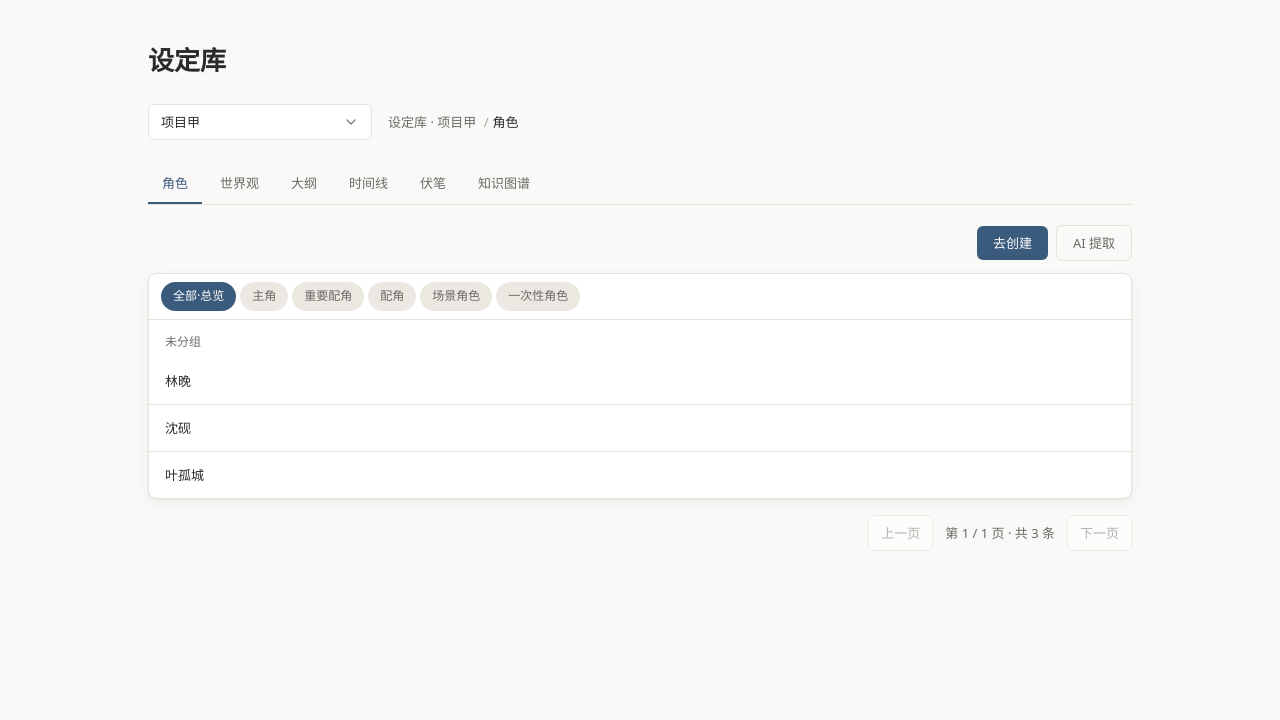
Scenario: #650 角色关系 GUI（T1 关系区契约，角色详情面板内） › 添加关系：点 character-rel-add → 表单字段齐全 → 选对方角色+填类型/描述 → POST body 断言 → 列表出现新行
The image size is (1280, 720).
expect the element with test id "library-list" is shown: met, box [148, 273, 1132, 499]
Click the button "林晚". click: click(178, 381)
box: [165, 370, 1047, 392]
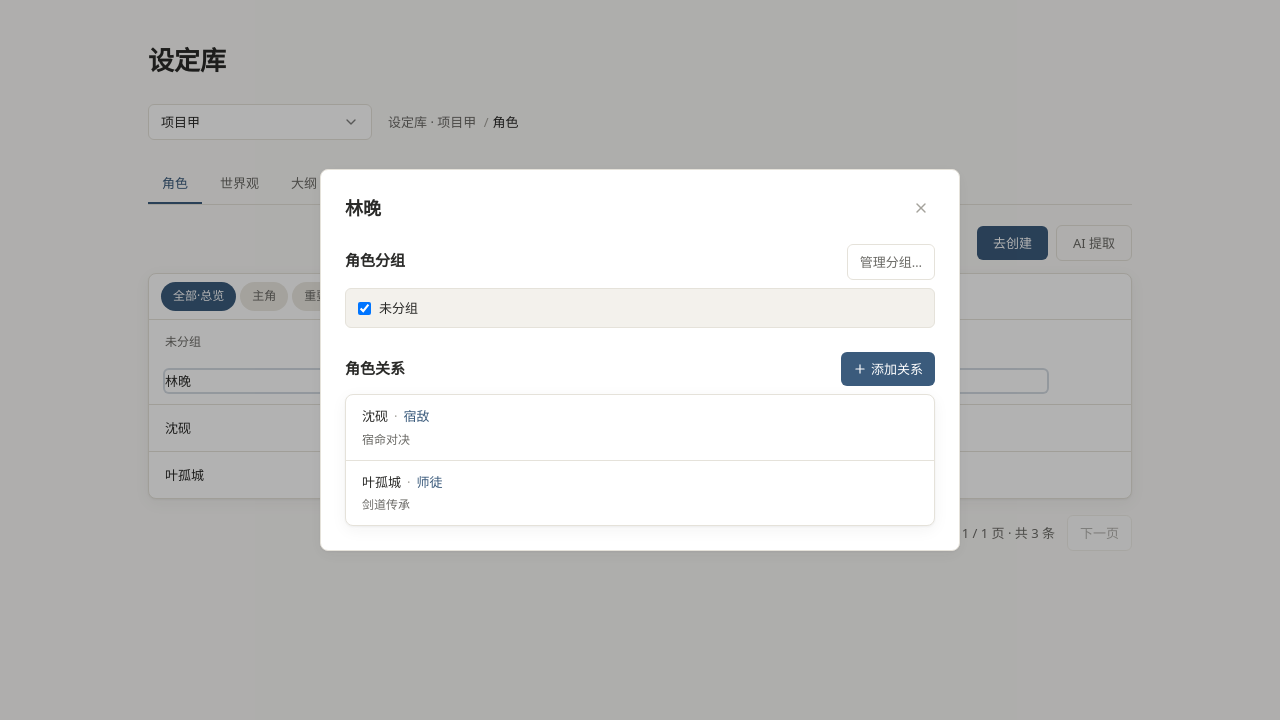
Click the button with test id "character-rel-add". click: click(888, 369)
box: [841, 352, 935, 386]
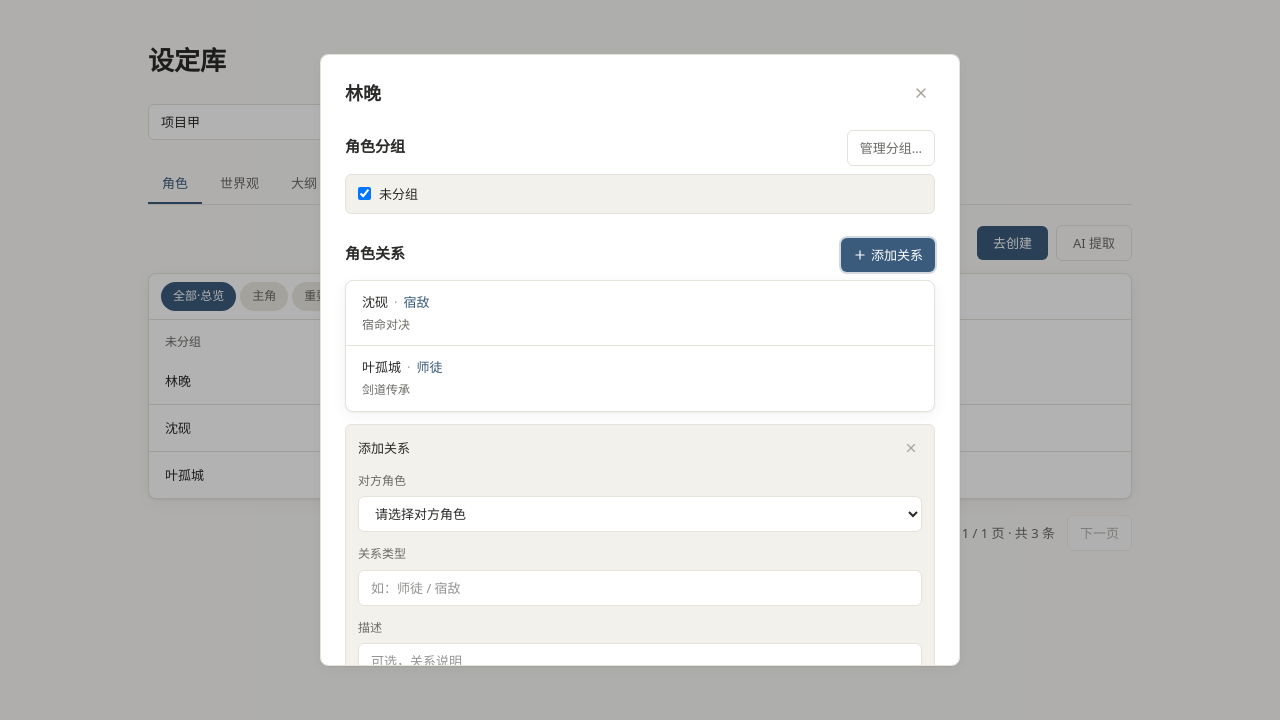
expect the dropdown with test id "character-rel-form-to" is shown: met
expect the field with test id "character-rel-form-type" is shown: met, box [358, 570, 922, 606]
expect the field with test id "character-rel-form-desc" is shown: met, box [358, 643, 922, 666]
Select "沈砚" in the dropdown with test id "character-rel-form-to". click: (640, 514)
box: [358, 496, 922, 532]
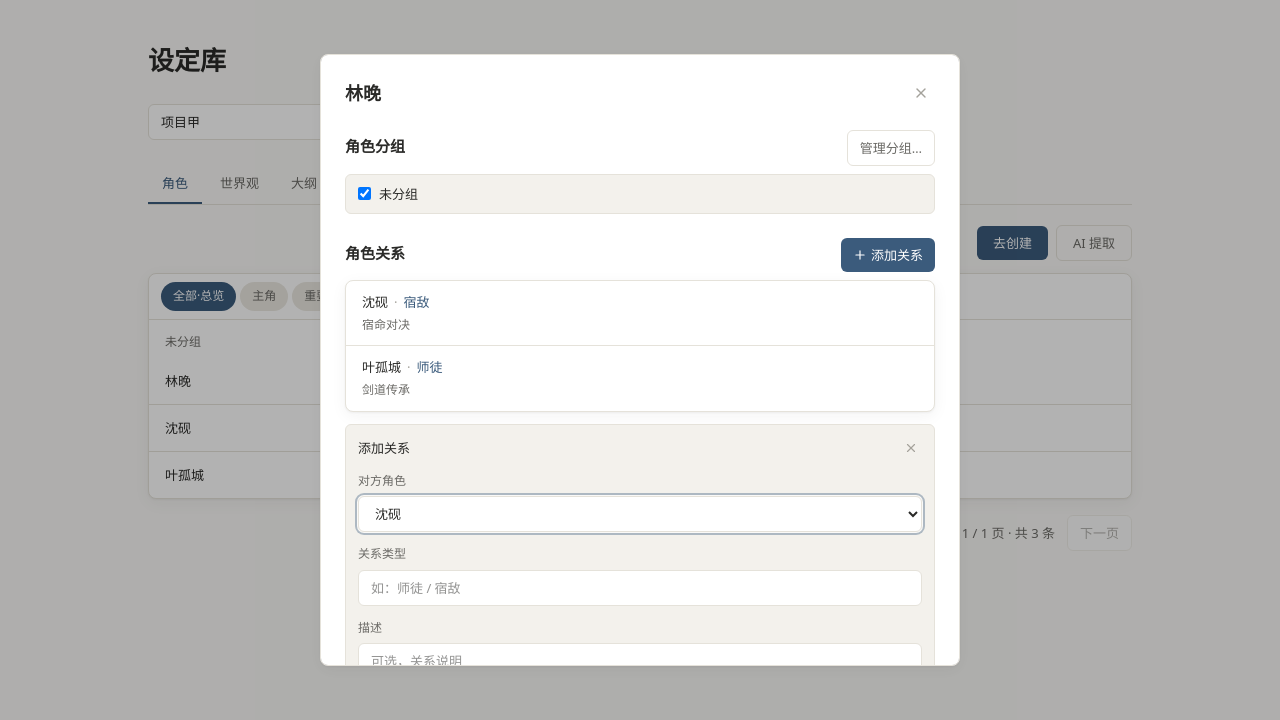
Type "挚友" into the field with test id "character-rel-form-type". click: (640, 588)
box: [358, 570, 922, 606]
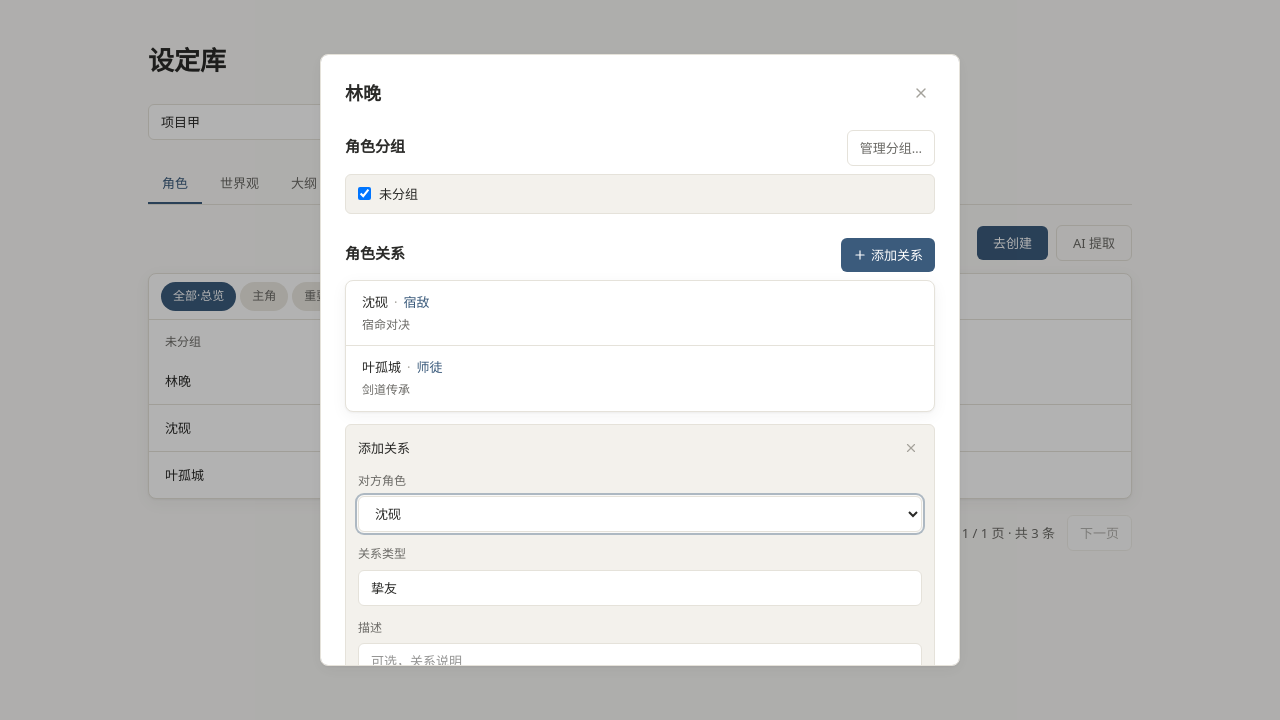
Type "患难与共" into the field with test id "character-rel-form-desc". click: (640, 661)
box: [358, 643, 922, 679]
(page scrolled)
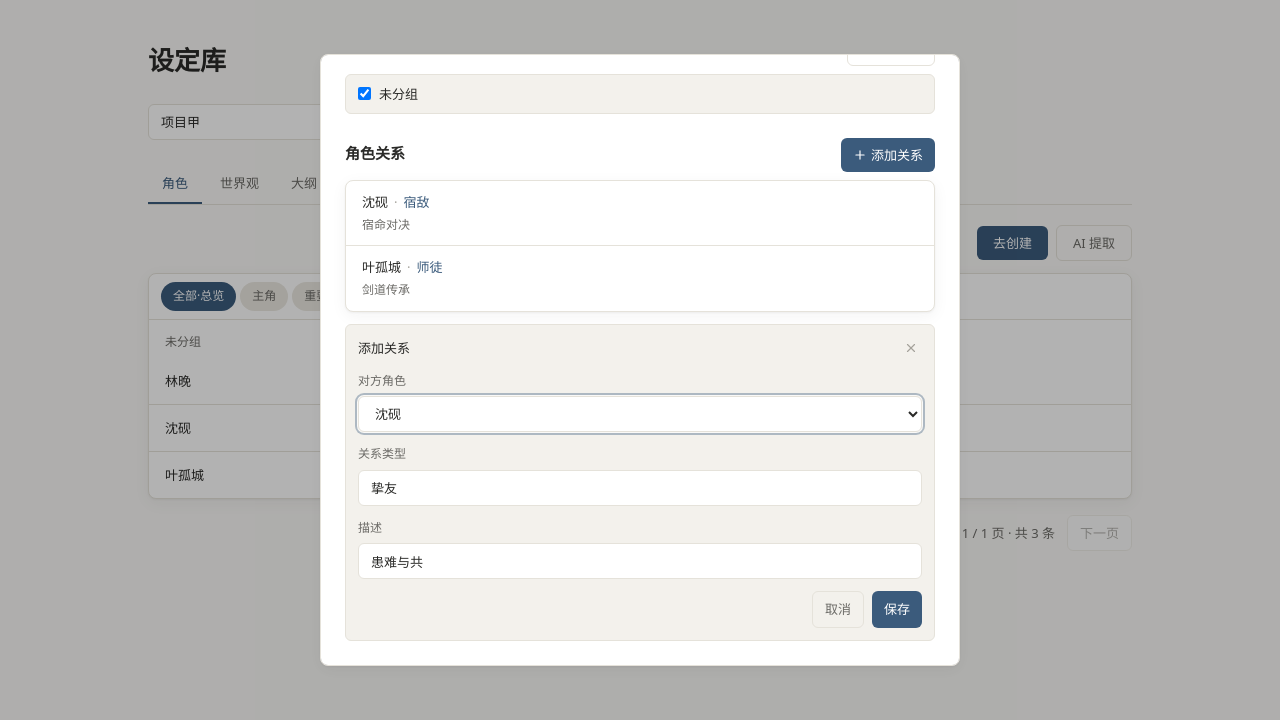
Click the button with test id "character-rel-form-save". click: click(897, 609)
box: [872, 591, 922, 628]
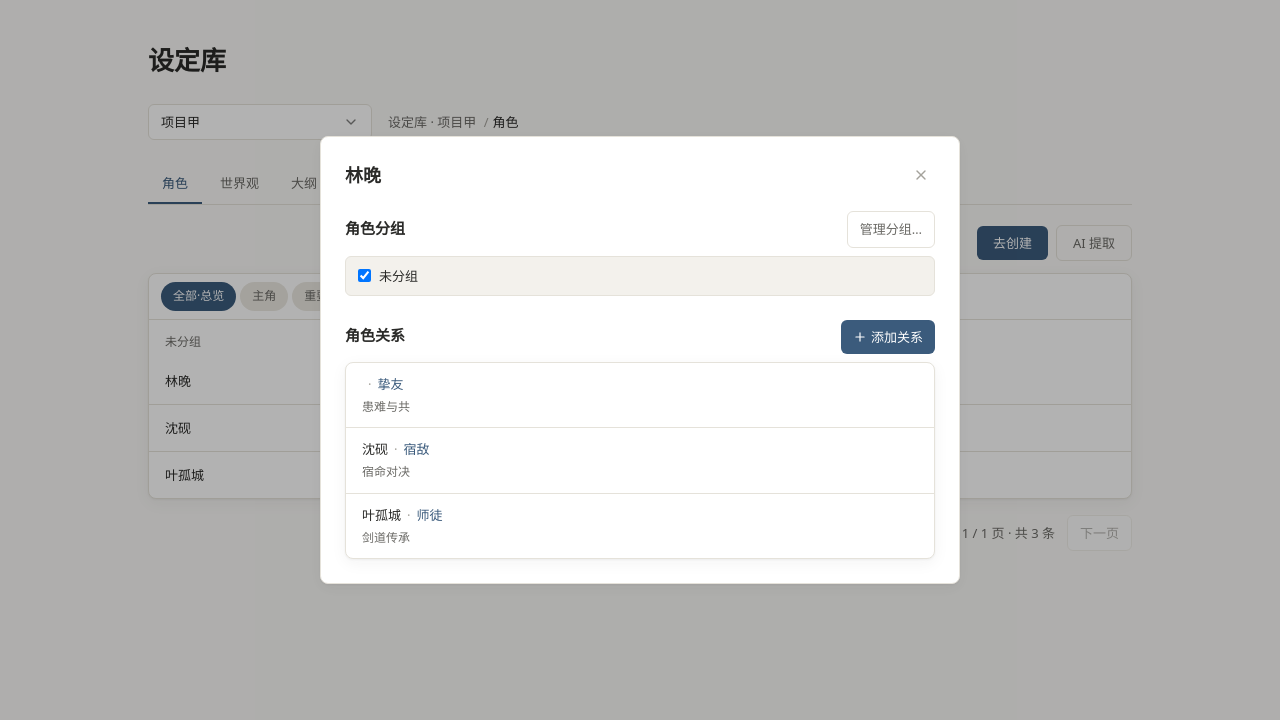
expect the text "挚友" is shown: met, box [378, 375, 404, 393]
